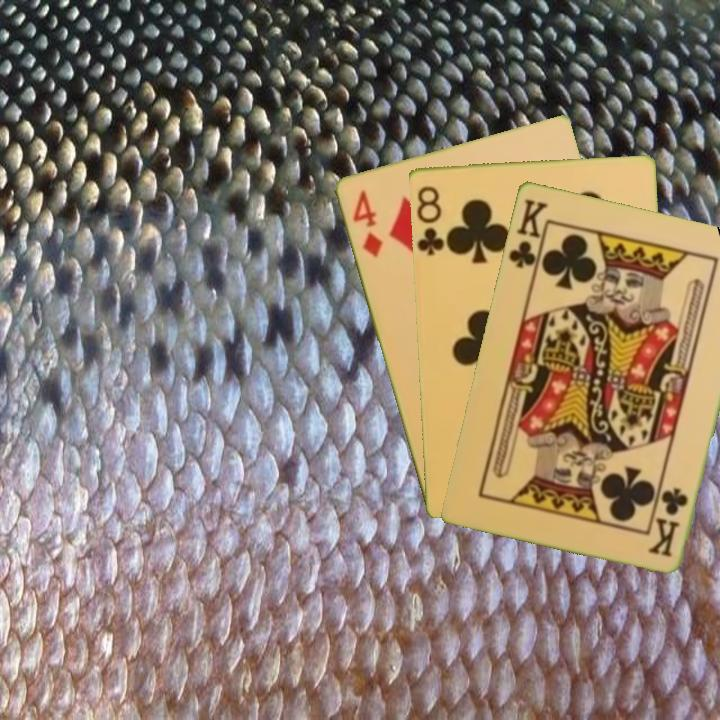4d: (348, 186, 386, 261)
8c: (412, 182, 450, 259)
Kc: (504, 195, 551, 278), (646, 483, 691, 560)
